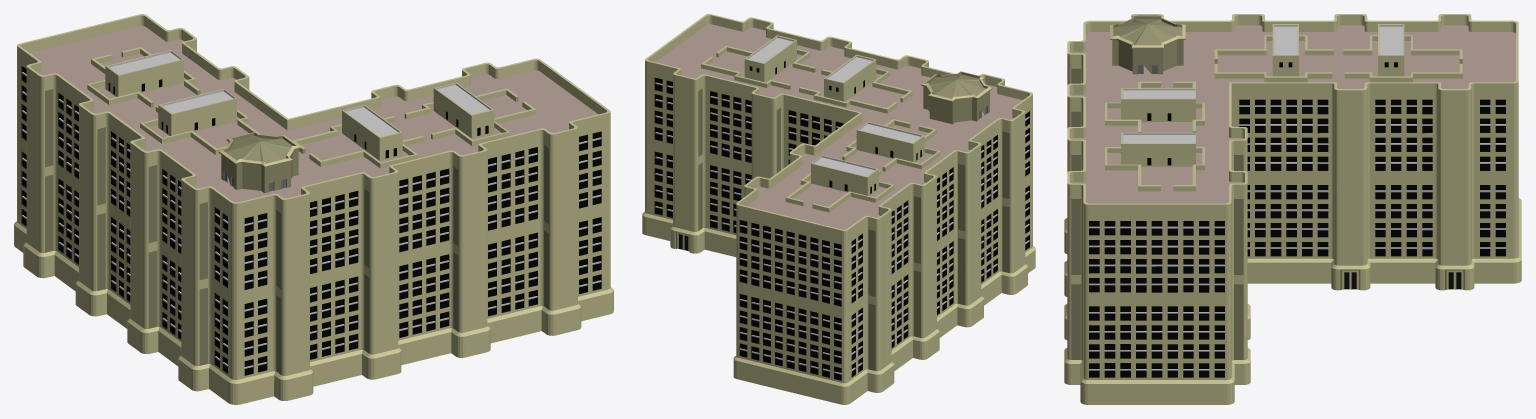
The model's file is town2.obj.
3 renders of one model, left to right at view 1: azimuth 30°, elevation 25°; view 2: azimuth 150°, elevation 25°; view 3: azimuth 270°, elevation 25°, orthographic. The views are drawn at different scales.
Visible parts, largest first — view 1: object5, object, object7, object46, object56, object36, object66, object41, object61, object31, object51, Cube_7155 (+36 smaller); view 2: object5, object, object7, object41, object36, object46, object31, object61, object56, object66, object51, object8 (+38 smaller); view 3: object5, object, object7, object41, object36, object56, object66, object51, object46, object61, object31, Cube_7155 (+32 smaller).
Part boxes in pixels (bbox=[...]): object5: bbox=[29, 25, 598, 202]; object: bbox=[14, 221, 613, 404]; object7: bbox=[17, 29, 610, 217]; object46: bbox=[17, 98, 610, 275]; object56: bbox=[17, 165, 610, 341]; object36: bbox=[17, 79, 610, 255]; object66: bbox=[17, 184, 610, 360]; object41: bbox=[17, 60, 610, 236]; object61: bbox=[17, 146, 610, 322]; object31: bbox=[17, 117, 610, 294]; object51: bbox=[17, 203, 610, 379]; Cube_7155: bbox=[17, 136, 610, 303]; object5: bbox=[656, 24, 1022, 229]; object: bbox=[642, 212, 1035, 404]; object7: bbox=[645, 20, 1032, 243]; object41: bbox=[645, 73, 1032, 259]; object36: bbox=[645, 89, 1032, 276]; object46: bbox=[645, 106, 1032, 292]; object31: bbox=[645, 122, 1032, 309]; object61: bbox=[645, 147, 1032, 333]; object56: bbox=[645, 163, 1032, 350]; object66: bbox=[645, 180, 1032, 366]; object51: bbox=[645, 196, 1032, 383]; object8: bbox=[648, 15, 1029, 215]; object5: bbox=[1071, 25, 1515, 203]; object: bbox=[1064, 198, 1521, 404]; object7: bbox=[1067, 42, 1518, 218]; object41: bbox=[1067, 67, 1518, 237]; object36: bbox=[1067, 115, 1518, 256]; object56: bbox=[1067, 200, 1518, 341]; object66: bbox=[1067, 219, 1518, 360]; object51: bbox=[1067, 238, 1518, 379]; object46: bbox=[1067, 134, 1518, 275]; object61: bbox=[1067, 181, 1518, 322]; object31: bbox=[1067, 153, 1518, 294]; Cube_7155: bbox=[1067, 172, 1518, 304].
Bounding box in the file's own units: 3.39 × 1.83 × 3.39.
